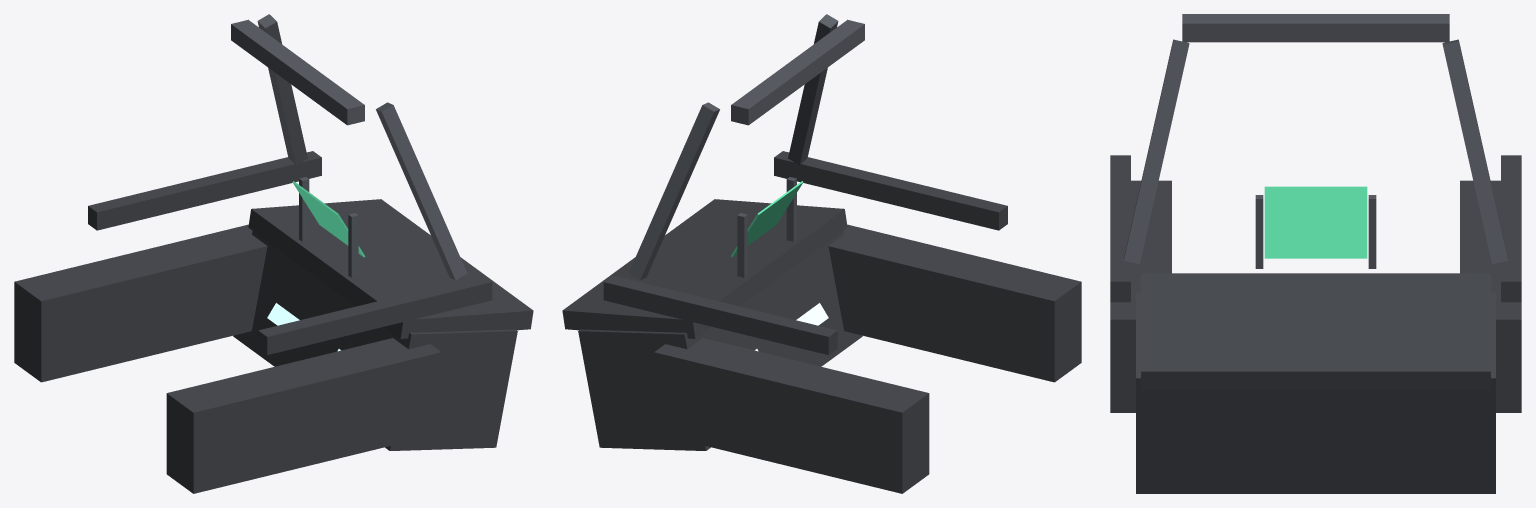
The model's file is SM_AH1G_Cockpit.fbx.
The picture shows the model from 3 angles, left to right: view 1: azimuth 30°, elevation 25°; view 2: azimuth 150°, elevation 25°; view 3: azimuth 270°, elevation 25°; orthographic projection. The views are drawn at different scales.
Parts seen in each view (by area): view 1: SM_AH1G_Cockpit; view 2: SM_AH1G_Cockpit; view 3: SM_AH1G_Cockpit.
Part boxes in pixels (bbox=[...]): SM_AH1G_Cockpit: bbox=[14, 14, 533, 493]; SM_AH1G_Cockpit: bbox=[562, 14, 1081, 493]; SM_AH1G_Cockpit: bbox=[1110, 14, 1521, 493].
Bounding box in the file's own units: 0.9114 × 0.8 × 0.875.
